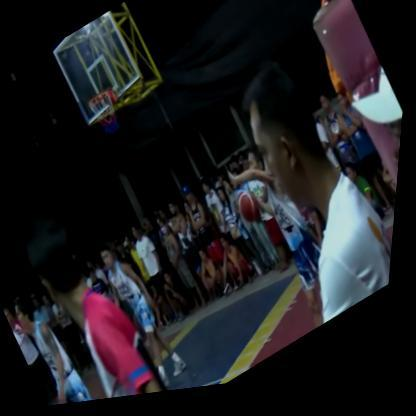basketball: (233, 191, 275, 246)
rim: (81, 82, 137, 154)
